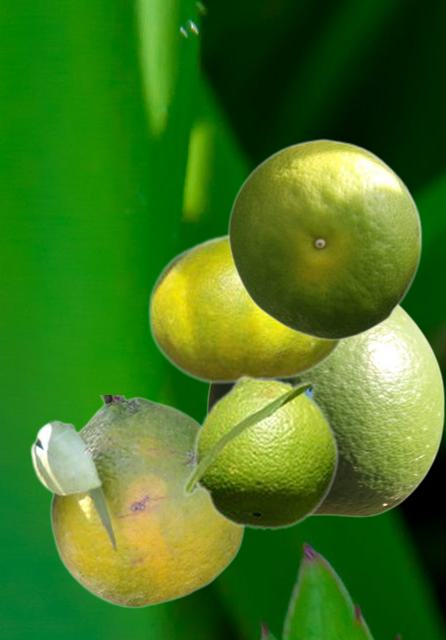dalandan: (206, 305, 444, 516), (29, 395, 245, 607), (227, 138, 421, 340), (147, 231, 346, 384), (181, 374, 339, 530)
